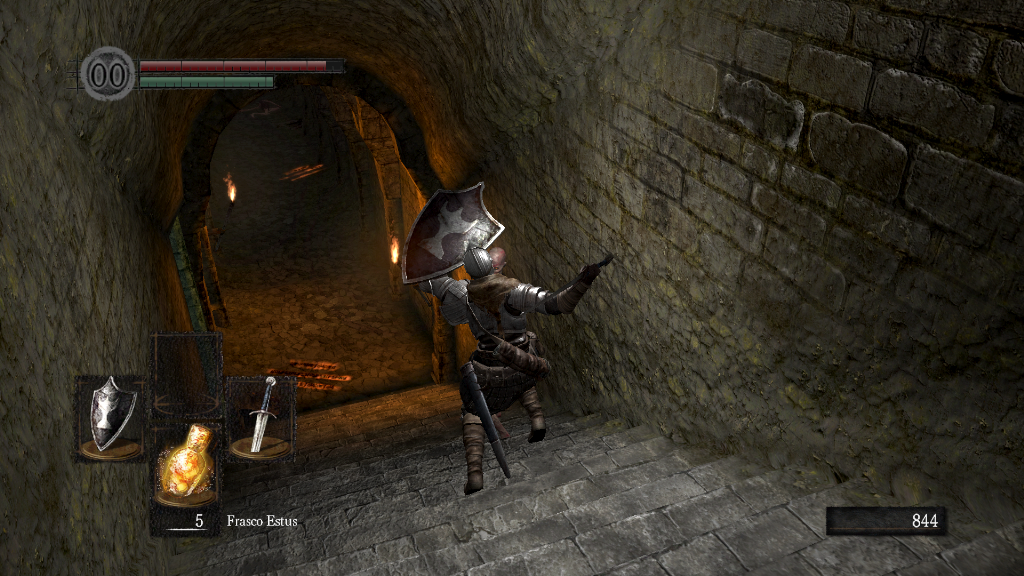health: (138, 58, 343, 71)
humanity: (80, 45, 136, 102)
player: (397, 179, 616, 495)
souls: (825, 506, 945, 536)
stamina: (138, 74, 274, 88)
